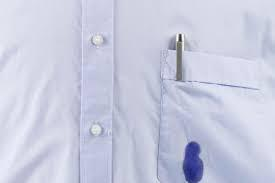ink: (183, 142, 202, 183)
